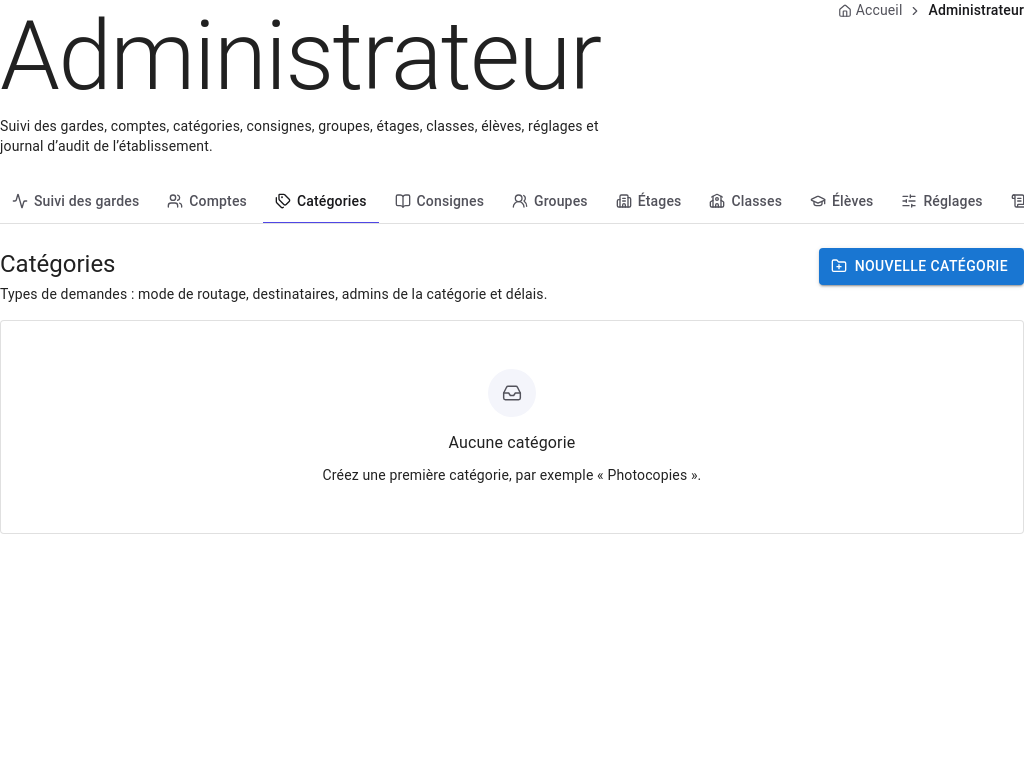
it: Libellés du rôle Admin › formulaire de catégorie : « Admins de la catégorie », « Validation finale par un admin », clôture « Par un admin »
Click the button "Nouvelle catégorie". click: (921, 266)
box: [819,248,1023,285]
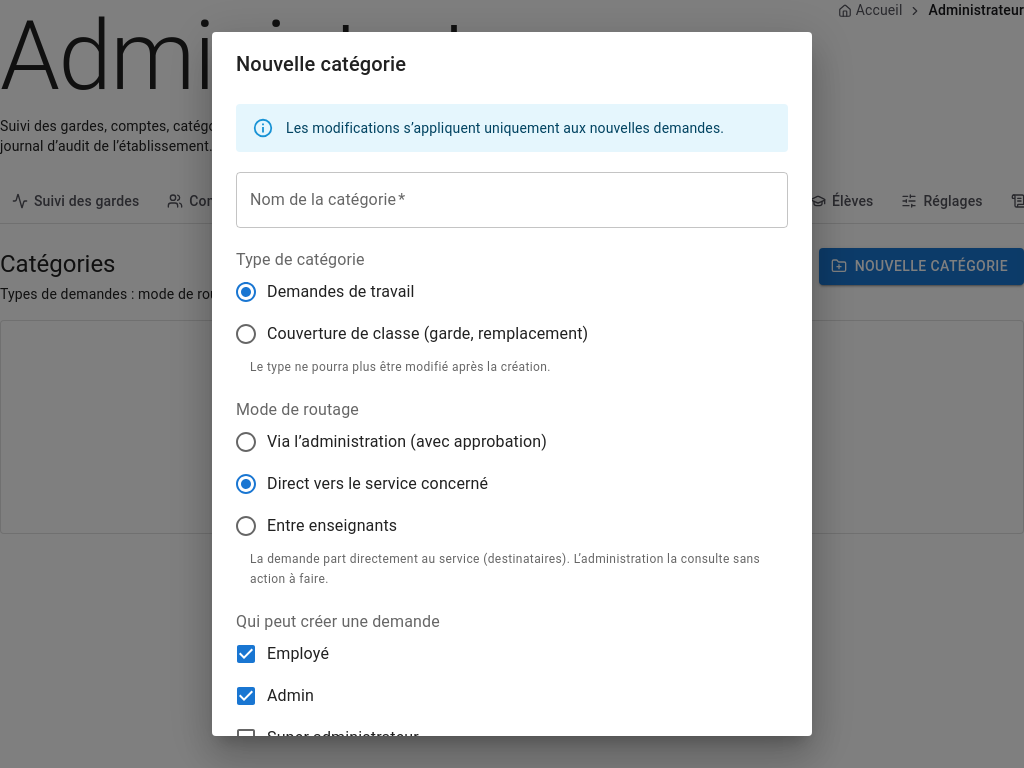
Click the radio button labelled "Via l’administration (avec approbation)". click: (390, 442)
box: [234,430,547,454]
(page scrolled)
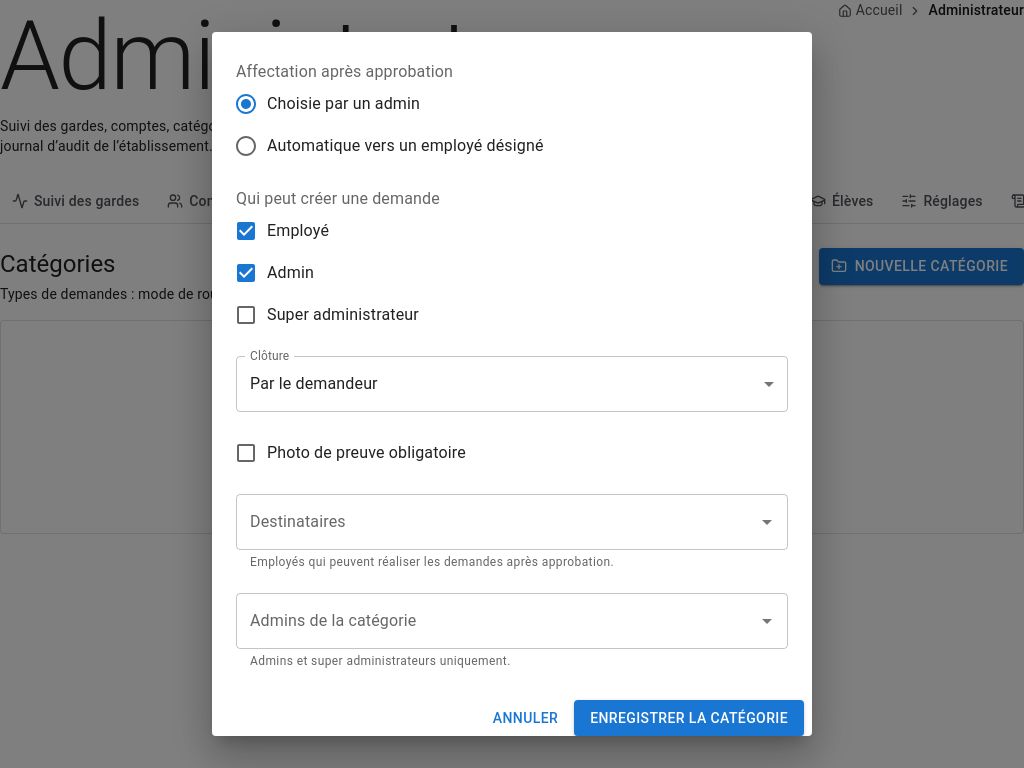
Expected: the dropdown labelled "Admins de la catégorie" is shown, [245,602,749,640]
Click the dropdown named "Clôture". click: (314, 384)
box: [250,374,378,393]
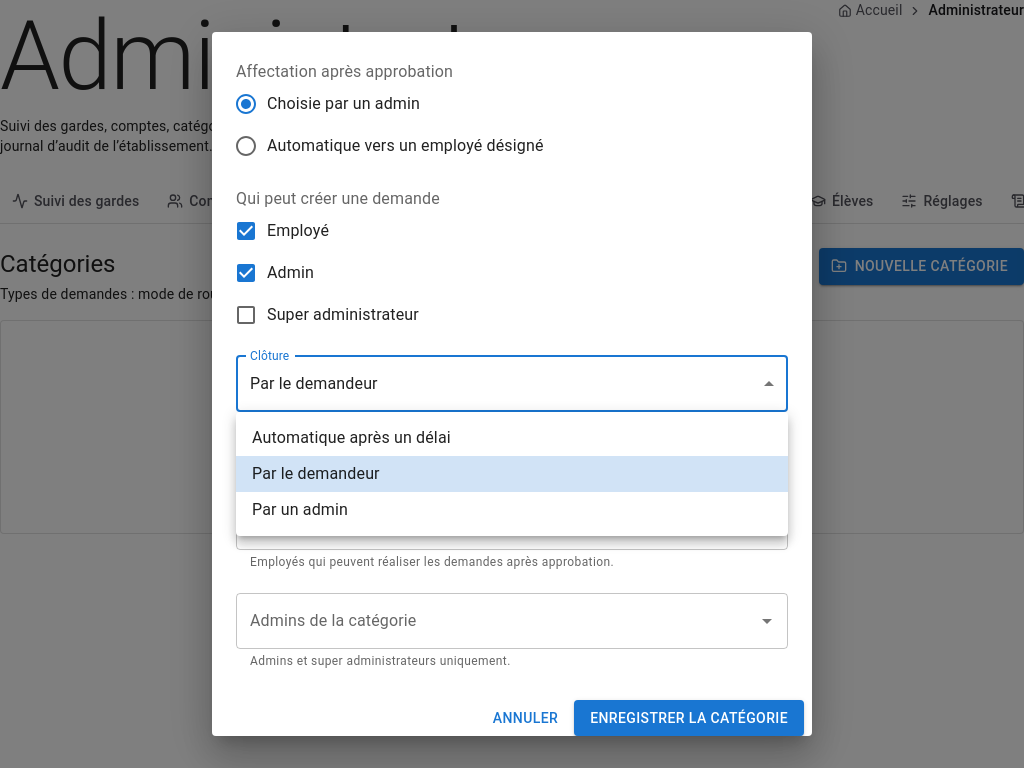
Expected: the option "Par un admin" is shown, [252,500,348,519]
